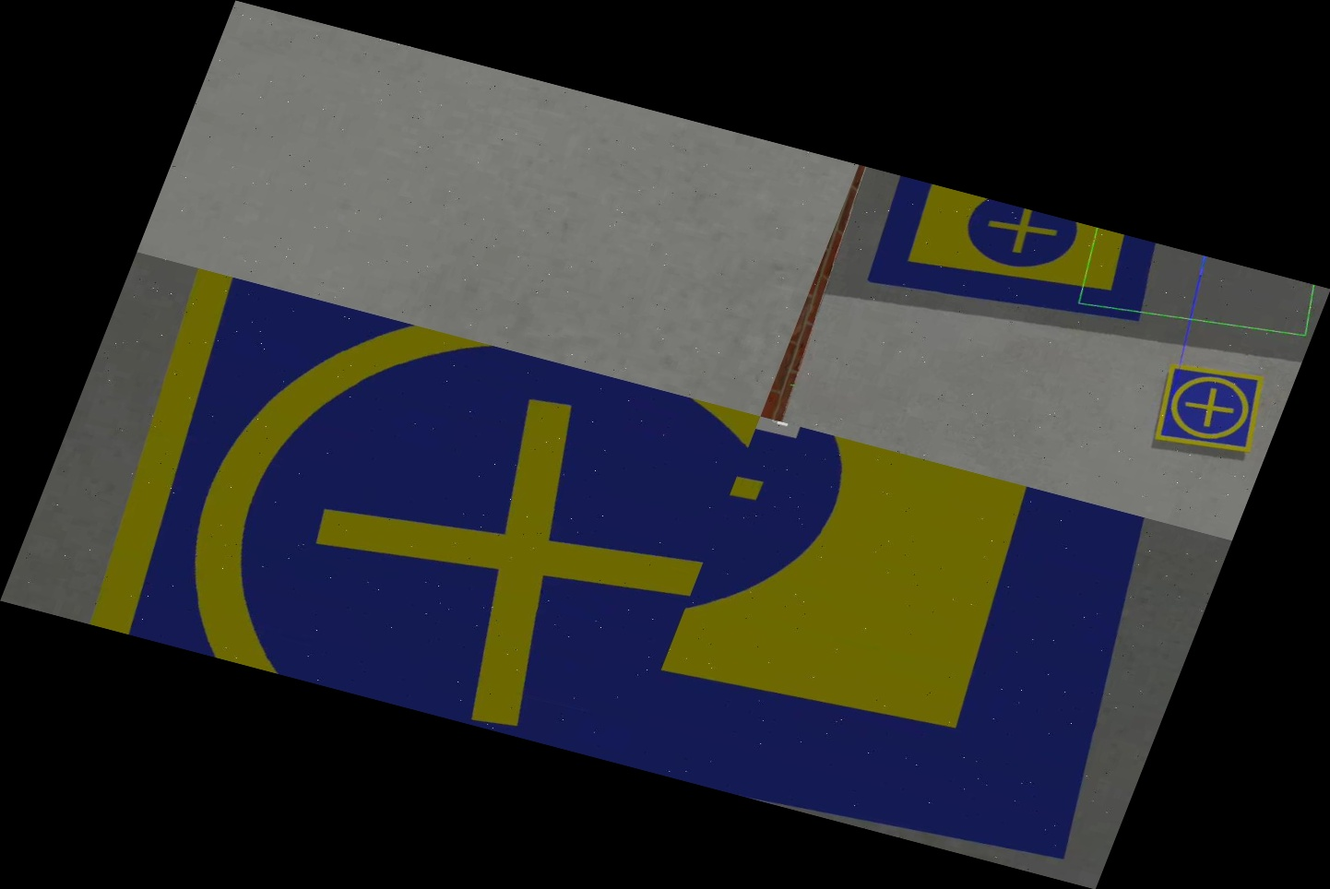large_base: (623, 416, 1197, 880), (856, 175, 1171, 353)
small_base: (53, 267, 760, 765), (1138, 352, 1278, 468)
